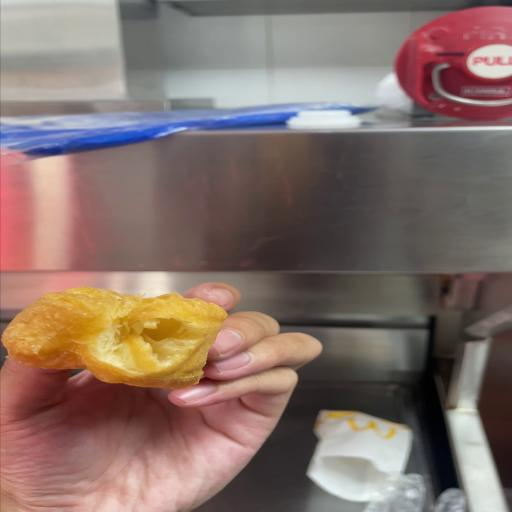brand_golden_defect: (2, 287, 227, 389)
